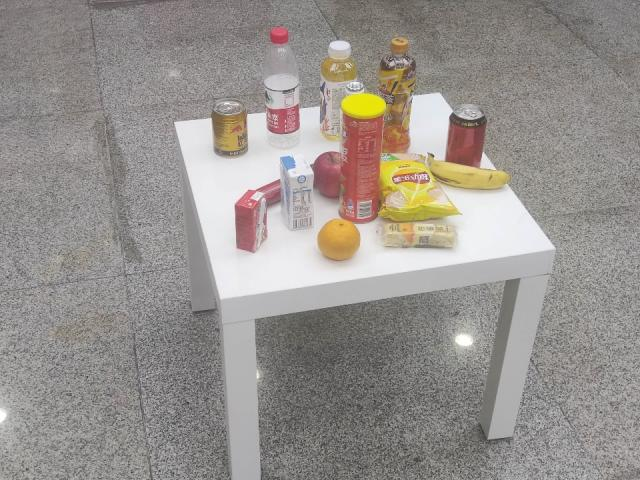Canned_drinks: (447, 104, 486, 169), (210, 98, 251, 158)
bottle: (254, 24, 308, 150)
cylinder: (340, 93, 385, 221)
drink_box: (278, 153, 318, 231), (231, 187, 270, 255)
